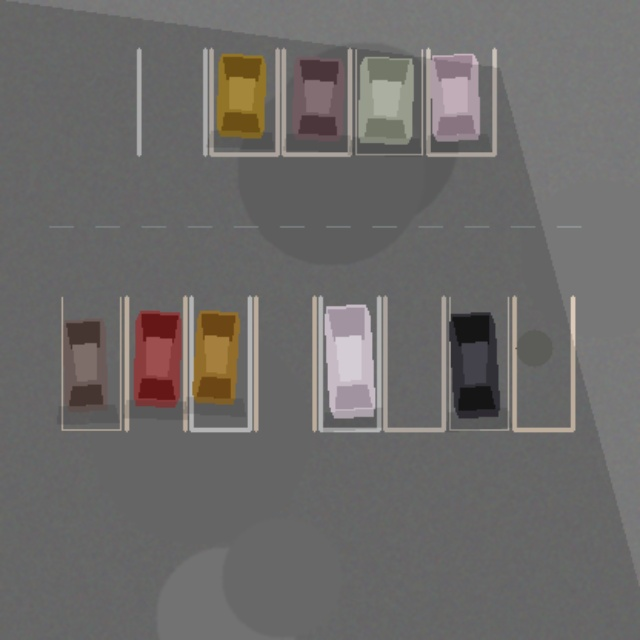space-empty: (255, 297, 314, 429), (385, 297, 443, 429), (514, 297, 572, 429), (138, 49, 205, 154)
space-occupied: (126, 297, 185, 429), (449, 297, 508, 429), (62, 297, 120, 429), (191, 297, 249, 429), (320, 297, 378, 429), (355, 49, 422, 154), (211, 49, 277, 154), (283, 49, 349, 154), (428, 49, 494, 154)
